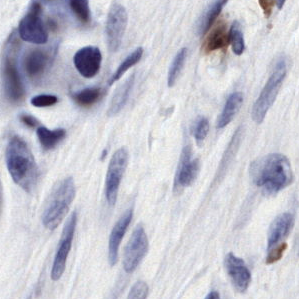Lymphocyte: (204, 18, 232, 50)
